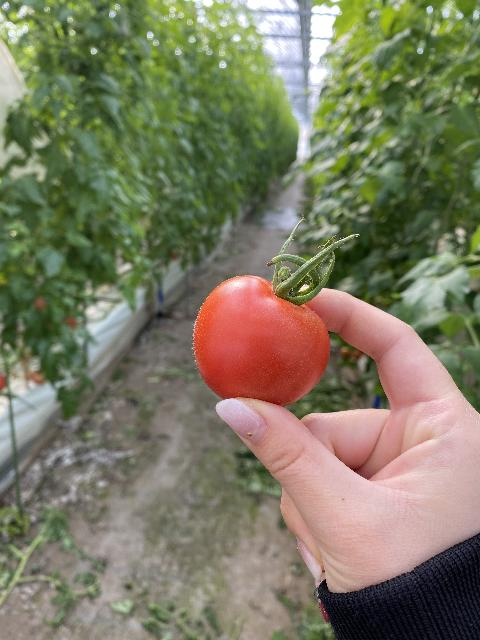l_fully_ripened: (193, 275, 331, 407)
